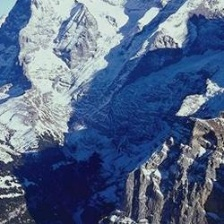neutral: (5, 2, 224, 219)
